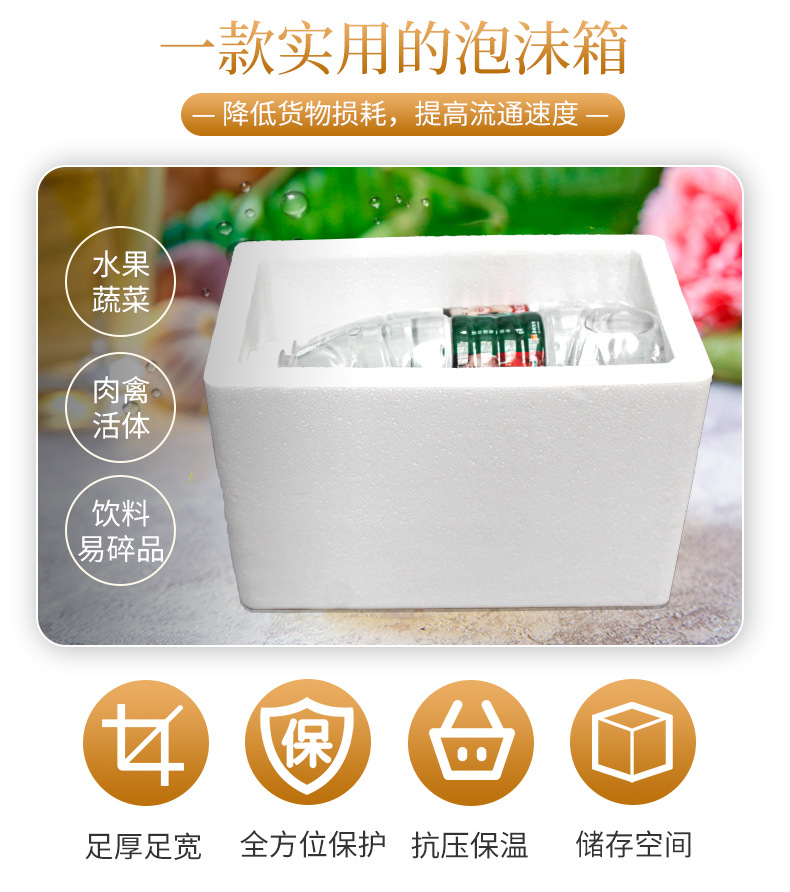Boxes: (205, 238, 710, 610)
